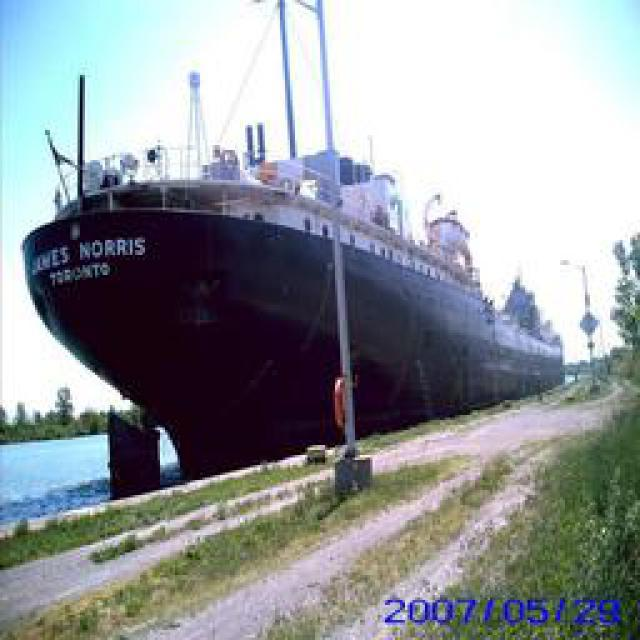Ship: (24, 35, 569, 483)
